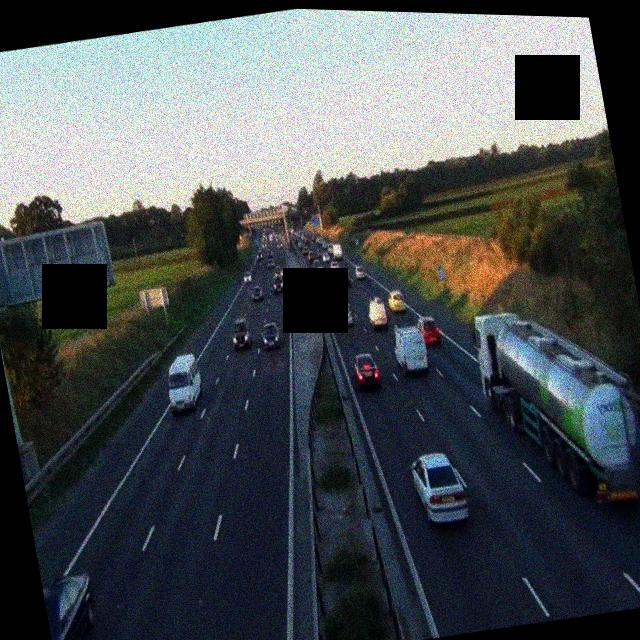car: (408, 446, 471, 528), (40, 570, 109, 640), (388, 324, 429, 378), (351, 350, 382, 391), (415, 313, 441, 348), (229, 316, 254, 351), (366, 296, 389, 329), (260, 319, 282, 351), (384, 288, 406, 316), (334, 301, 354, 327), (324, 281, 340, 301), (250, 282, 264, 302), (318, 270, 332, 290), (272, 275, 286, 294), (338, 271, 351, 288), (353, 265, 366, 281), (272, 264, 284, 279), (331, 261, 342, 274), (244, 269, 254, 283)
truck: (469, 291, 640, 521), (331, 242, 344, 260)
